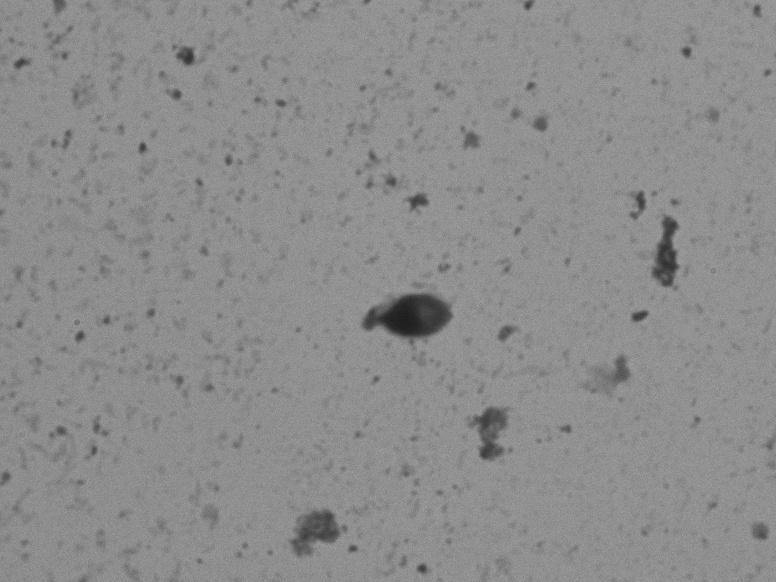Abnormal: (317, 240, 525, 397)
